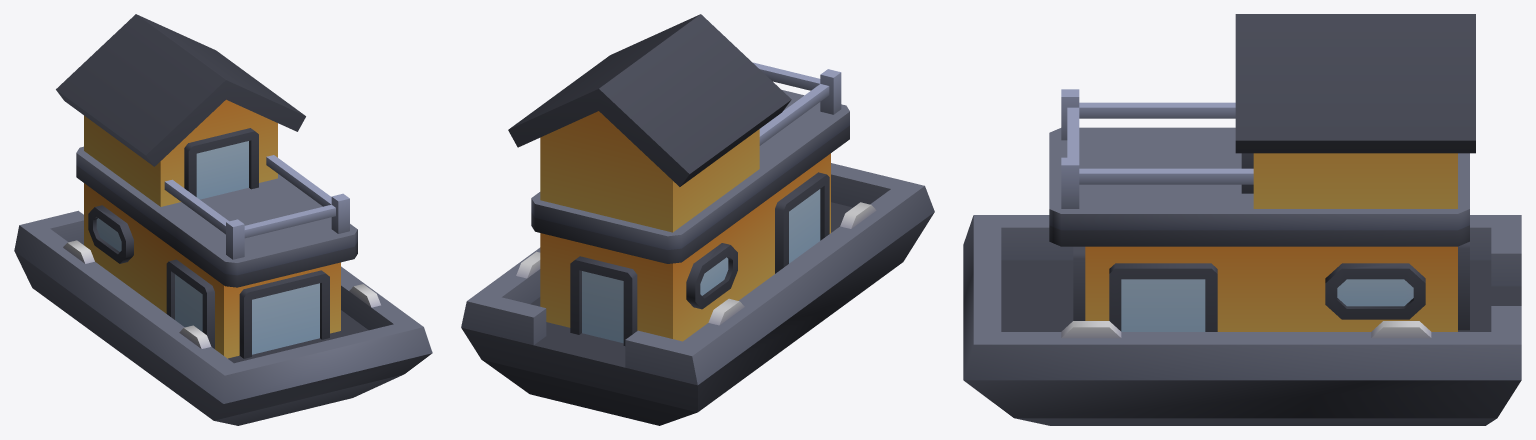
Rendered from boat-house-d.glb.
3 renders of one model, left to right at view 1: azimuth 30°, elevation 25°; view 2: azimuth 150°, elevation 25°; view 3: azimuth 270°, elevation 25°, orthographic. The views are drawn at different scales.
Parts seen in each view (by area): view 1: boat-house-d; view 2: boat-house-d; view 3: boat-house-d.
Boxes of the visible parts, x1=… form: boat-house-d: x1=14, y1=14, x2=432, y2=425; boat-house-d: x1=461, y1=14, x2=934, y2=425; boat-house-d: x1=963, y1=14, x2=1521, y2=425.
Bounding box in the file's own units: 2.68 × 3.44 × 4.64.
